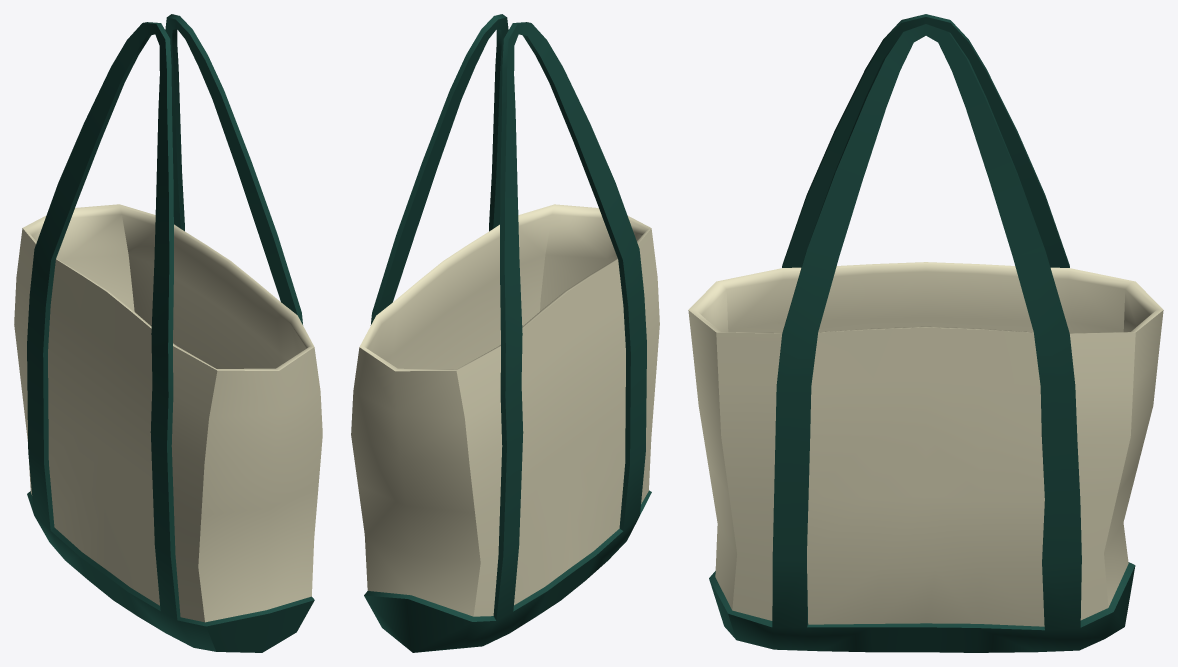
File: totebag.fbx
3 renders of one model, left to right at view 1: azimuth 30°, elevation 25°; view 2: azimuth 150°, elevation 25°; view 3: azimuth 270°, elevation 25°, orthographic. The views are drawn at different scales.
Visible parts, largest first — view 1: tote bag; view 2: tote bag; view 3: tote bag.
Boxes of the visible parts, x1,y1,x2,y2 form: tote bag: (14, 14, 322, 652); tote bag: (351, 14, 659, 652); tote bag: (688, 14, 1163, 652).
Size of the model in its own units: 103 by 394 by 275.
